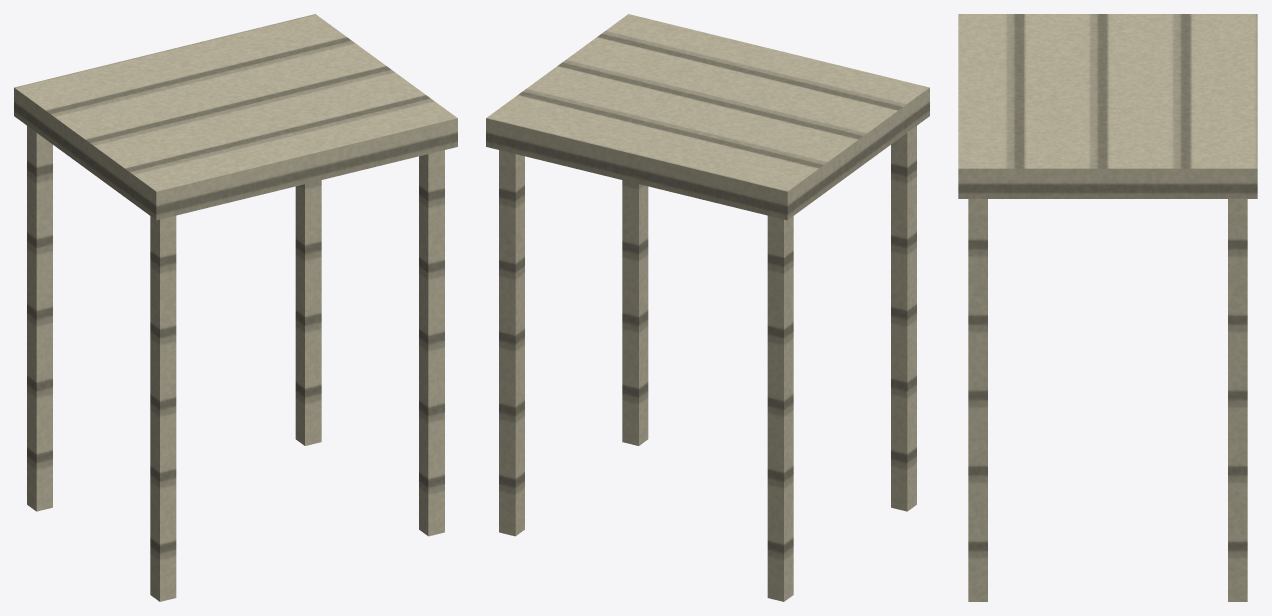
File: student_desk.glb
The picture shows the model from 3 angles, left to right: view 1: azimuth 30°, elevation 25°; view 2: azimuth 150°, elevation 25°; view 3: azimuth 270°, elevation 25°; orthographic projection. The views are drawn at different scales.
Parts seen in each view (by area): view 1: student_desk-col; view 2: student_desk-col; view 3: student_desk-col.
Boxes of the visible parts, <box> form: student_desk-col: <box>14,14,457,601</box>; student_desk-col: <box>486,14,929,601</box>; student_desk-col: <box>958,14,1257,601</box>.
Bounding box in the file's own units: 0.55 × 0.725 × 0.45.
1 material, 1 textured.
